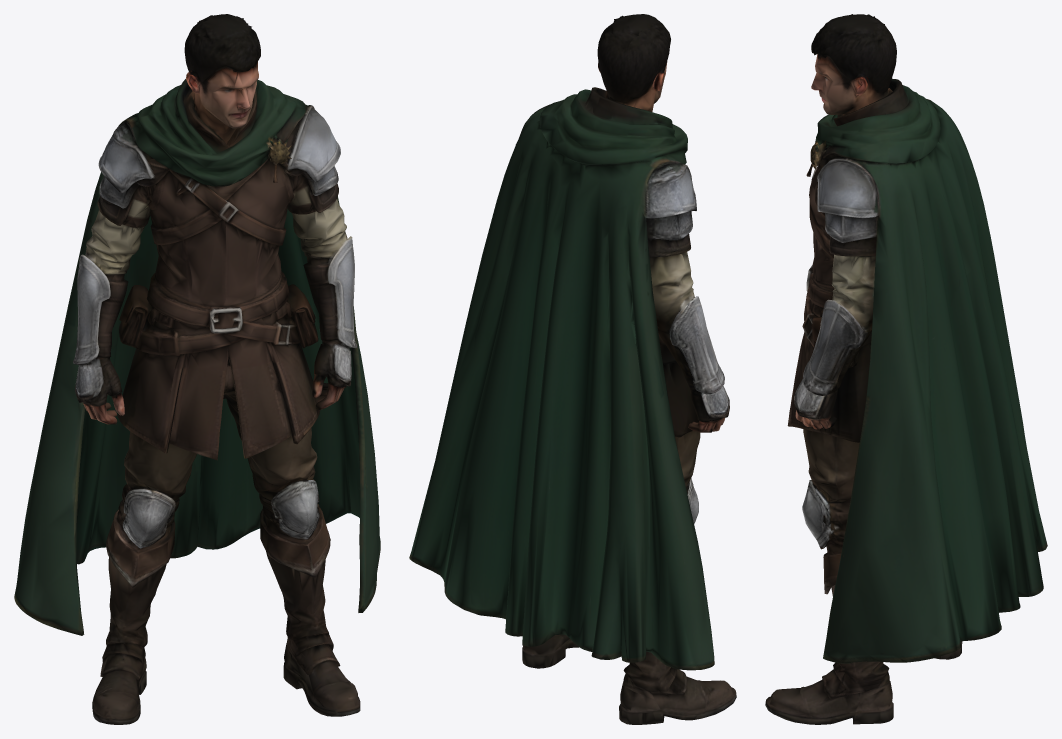
The model's file is hero_ai_preview_png.glb.
3 renders of one model, left to right at view 1: azimuth 30°, elevation 25°; view 2: azimuth 150°, elevation 25°; view 3: azimuth 270°, elevation 25°, orthographic. The views are drawn at different scales.
Parts seen in each view (by area): view 1: node_0; view 2: node_0; view 3: node_0.
Boxes of the visible parts, x1,y1,x2,y2 form: node_0: (14, 14, 380, 724); node_0: (409, 14, 736, 724); node_0: (765, 14, 1047, 724).
Bounding box in the file's own units: 0.5593 × 1.11 × 0.434.
1 material, 1 textured.
